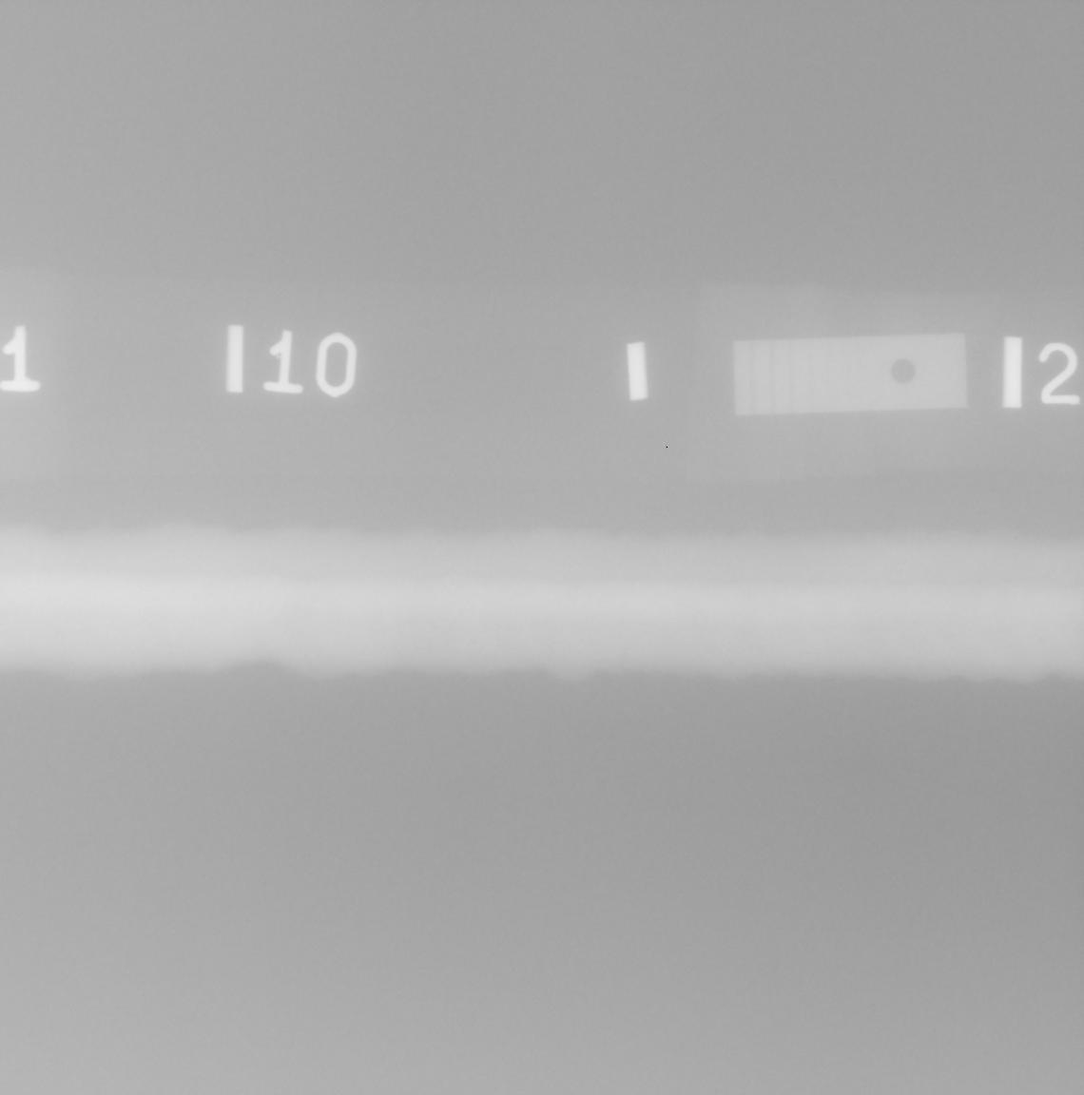Lack of Fusion: (155, 644, 175, 649), (414, 647, 432, 651)
Reference Standard 1: (733, 334, 967, 415)
